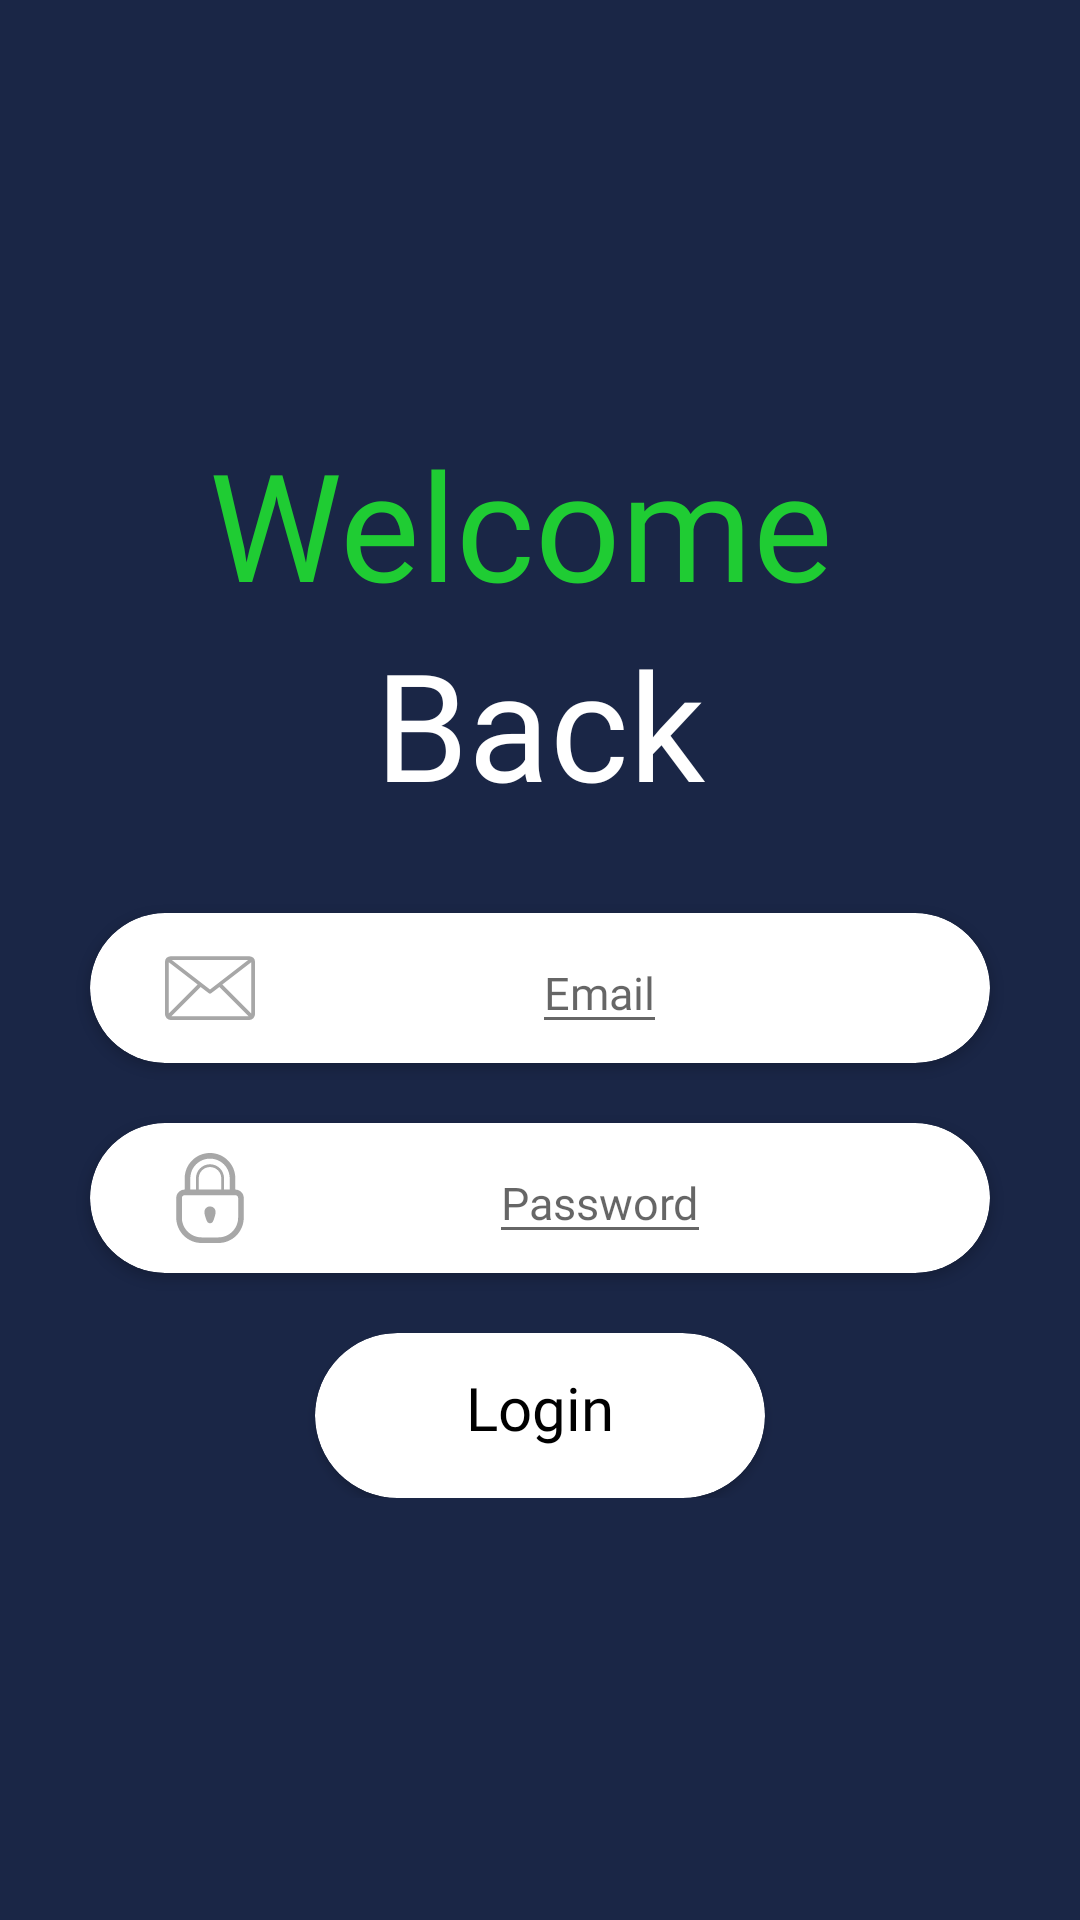

Named icons in this screenshot (1080 x 1920) and their bounding boxes, (x1=x1, y1=y1, x2=x2, y2=y2):
email web essential: (x1=165, y1=956, x2=255, y2=1020)
